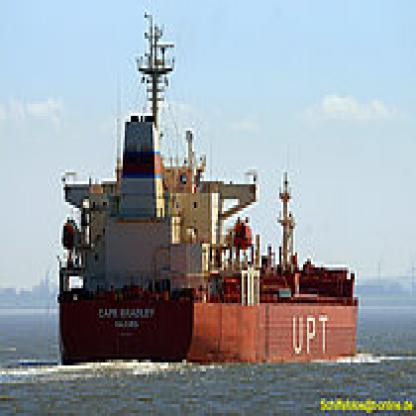Tanker: (70, 72, 361, 362)
